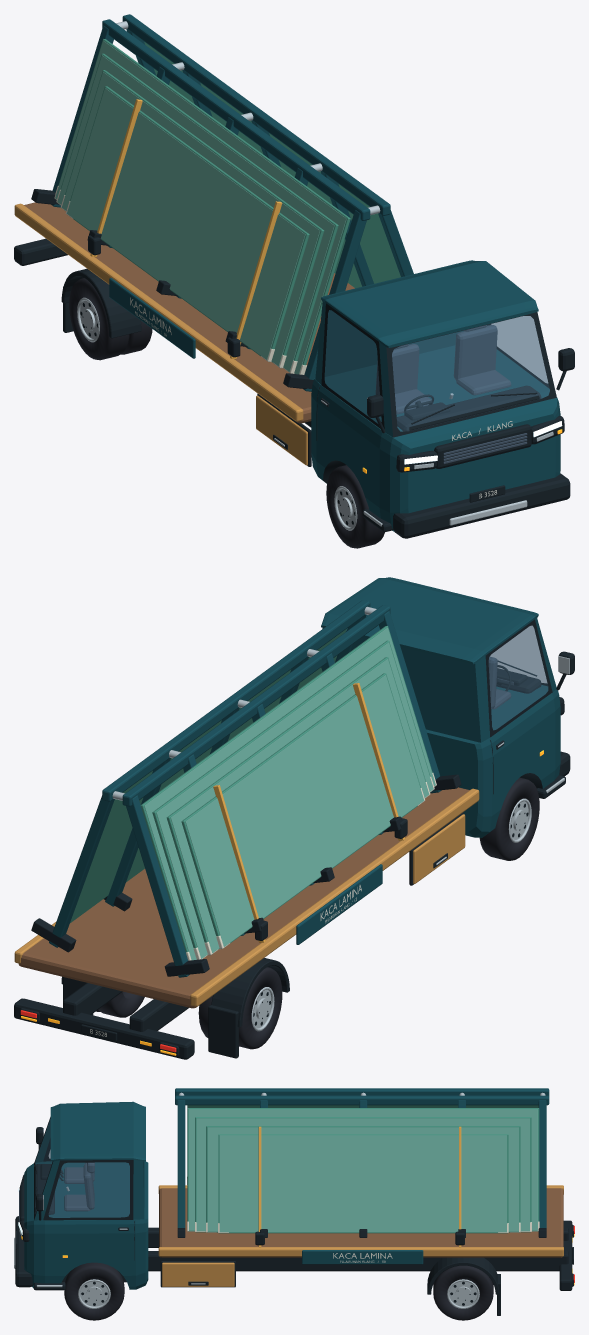
3 renders of one model, top to bottom at view 1: azimuth 30°, elevation 25°; view 2: azimuth 150°, elevation 25°; view 3: azimuth 270°, elevation 25°, orthographic. The views are drawn at different scales.
Parts seen in each view (by area): view 1: Klang Laminated Glass Carrier; view 2: Klang Laminated Glass Carrier; view 3: Klang Laminated Glass Carrier.
Boxes of the visible parts, x1,y1,x2,y2 form: Klang Laminated Glass Carrier: (14,14,574,548); Klang Laminated Glass Carrier: (14,577,574,1059); Klang Laminated Glass Carrier: (14,1088,574,1320).
Size of the model in its own units: 2.62 by 3.37 by 8.63.
